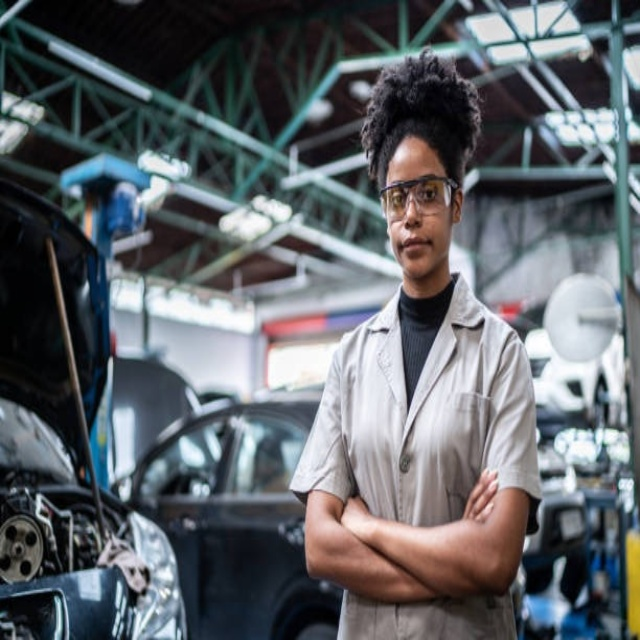Gafas: (379, 175, 460, 220)
Sin_guantes: (459, 458, 503, 522)
Sin_mascara: (396, 232, 433, 268)
